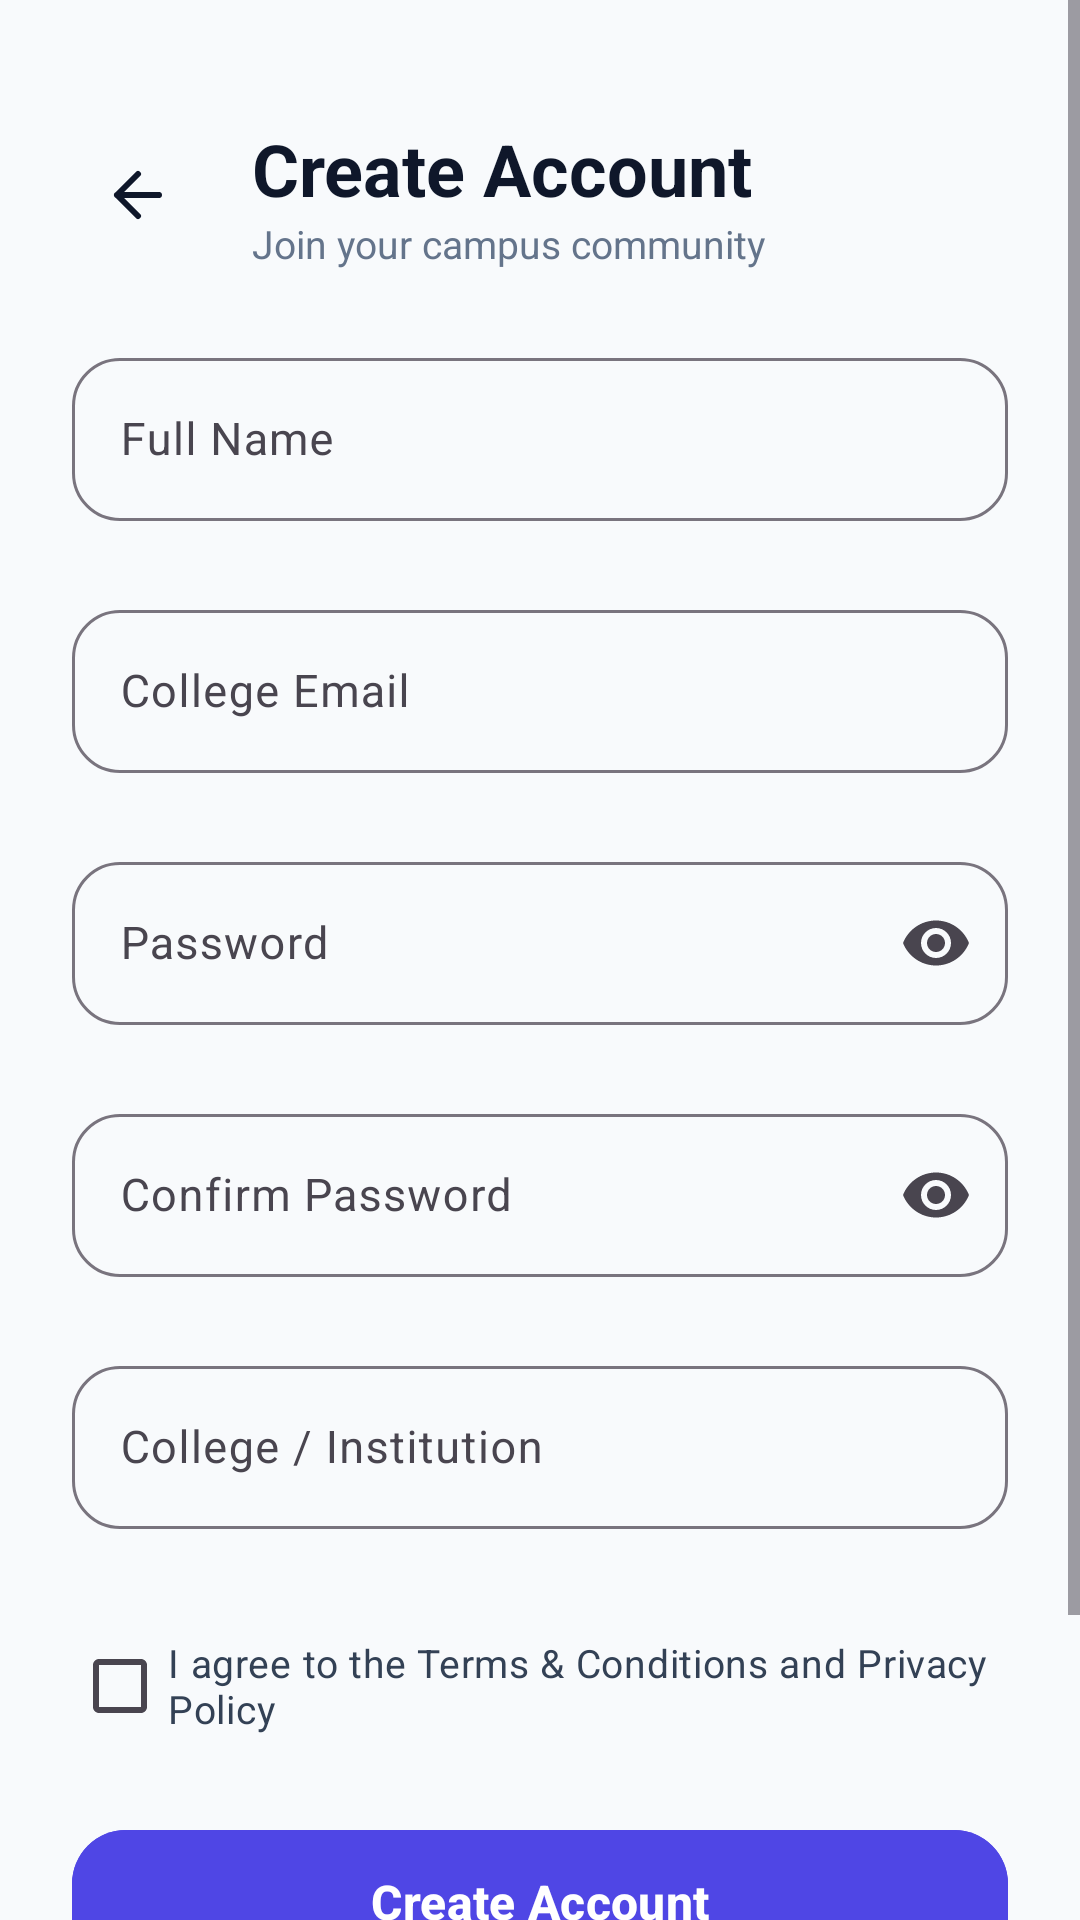

Where icons sit on this 1080px×1920px app screen, as (x1,y1,x2,y2):
Back: (114,171,162,219)
